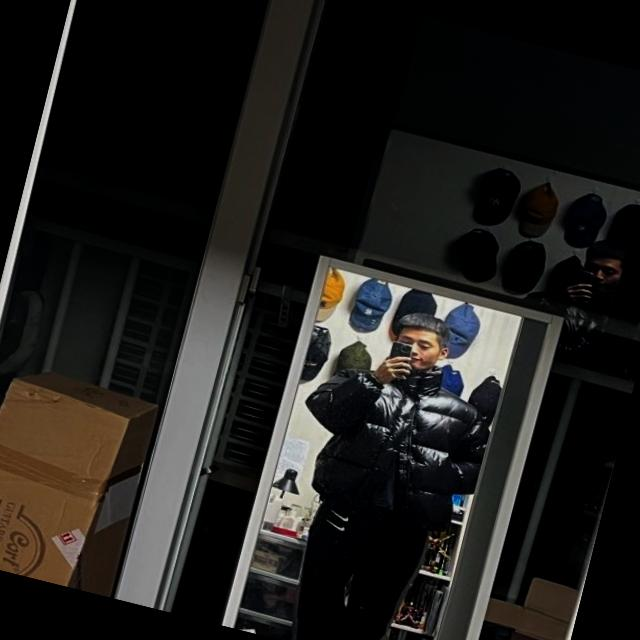padding: (287, 346, 503, 540)
trainingpants: (279, 484, 430, 640)
